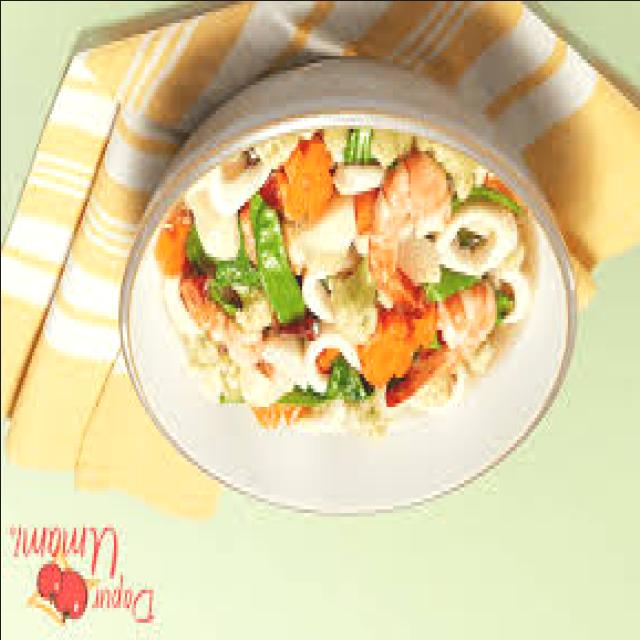capcay: (155, 124, 536, 439)
